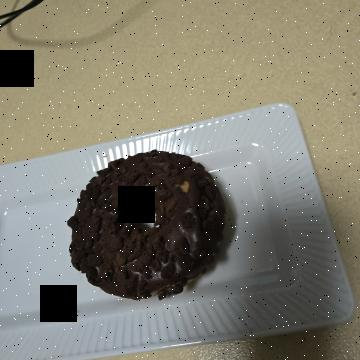doughnut: (133, 130, 310, 310)
